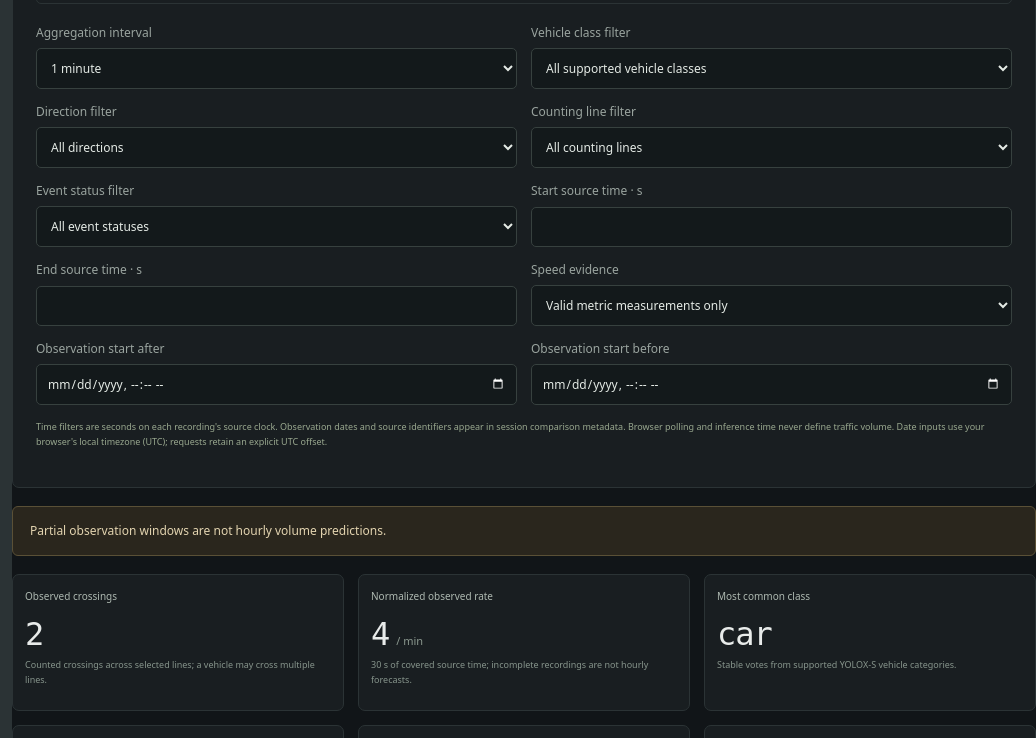
Test case: Traffic Intelligence workspace › serializes observation dates with timezone separately from source seconds
(page scrolled)
Expected: the text "4" is shown, 371,615 -> 389,653
Step 1. Type "2026-10-24T09:00" into the field labelled "Observation start after" → (276, 384), box 36,364 -> 517,405
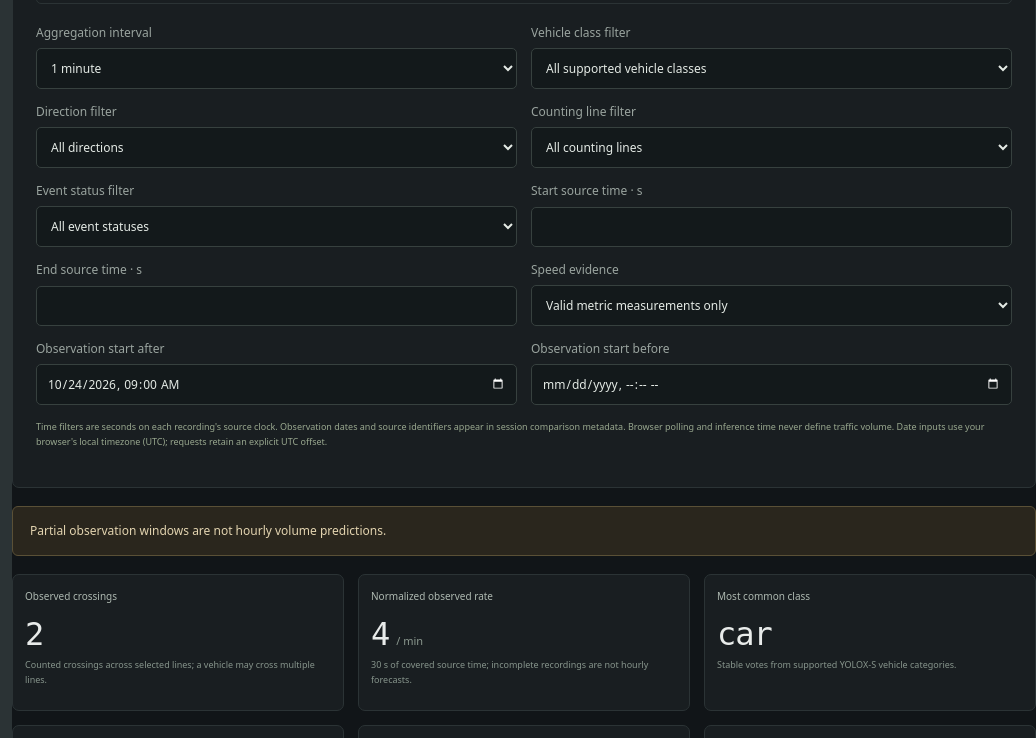
Step 2. Type "2026-10-24T10:00" into the field labelled "Observation start before" → (772, 384), box 531,364 -> 1012,405
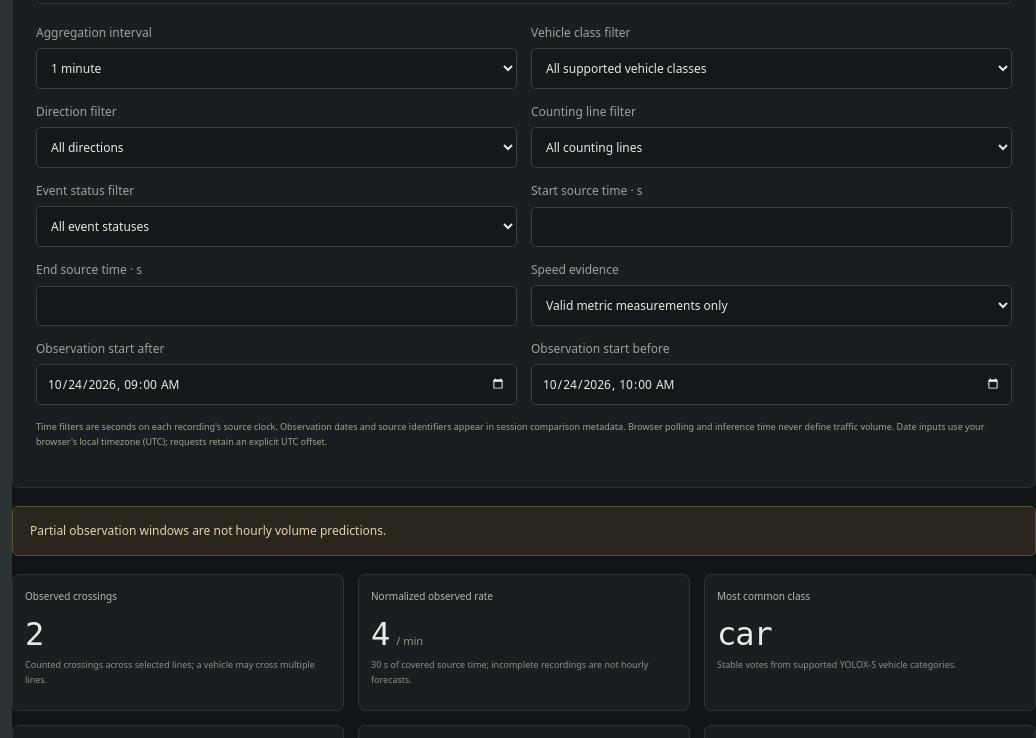
Expected: the number field labelled "Start source time · s" is not empty, 531,207 -> 1012,247
Step 3. Replace the text in the field labelled "Observation start before" with "2026-10-24T08:00" → (772, 384), box 531,364 -> 1012,405
(page scrolled)
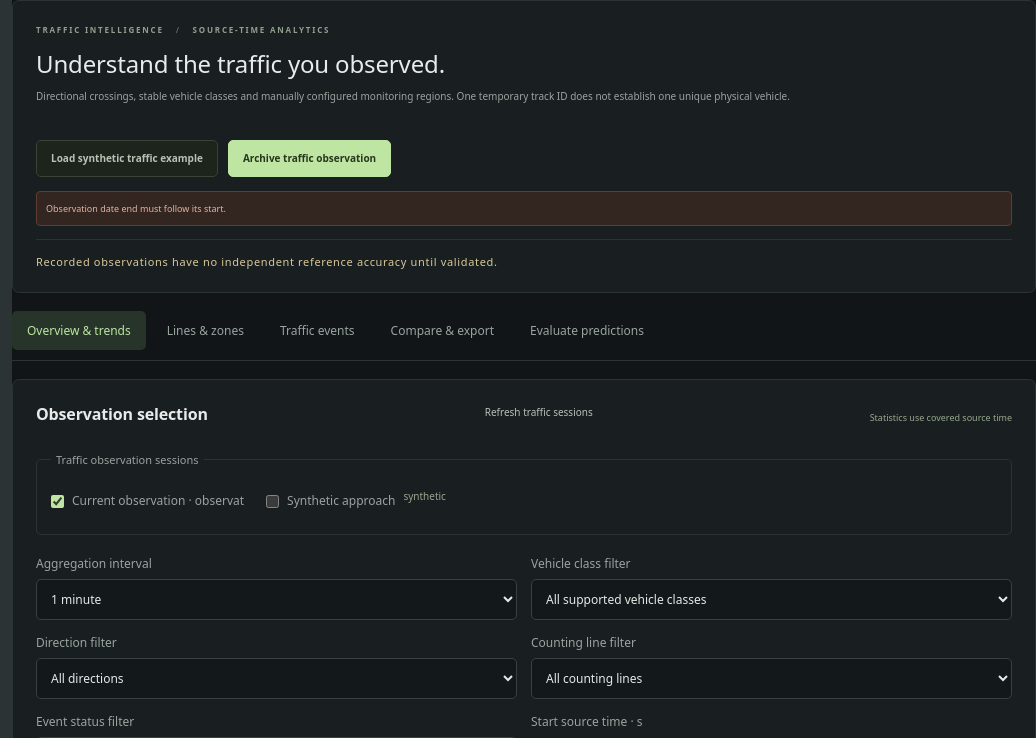
Expected: the message shows "Observation date end must follow its start", 46,202 -> 226,214
